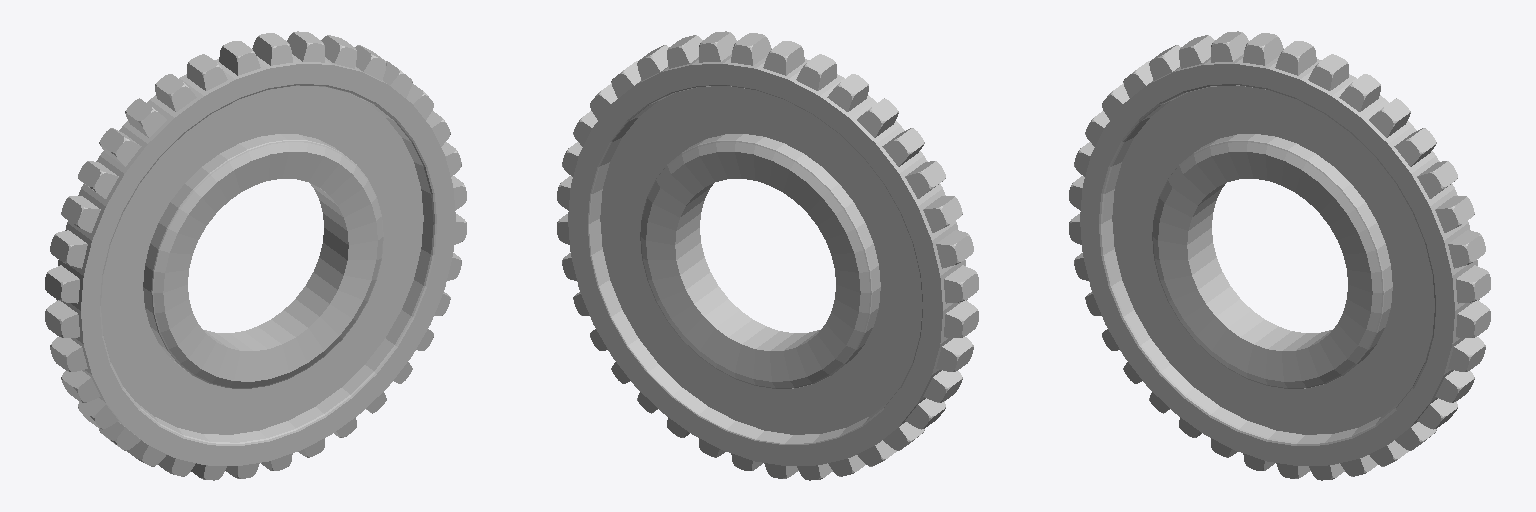
Rendered from gear10.obj.
3 views of the same model, side by side, from view 1: azimuth 30°, elevation 25°; view 2: azimuth 150°, elevation 25°; view 3: azimuth 330°, elevation 25° (orthographic).
Parts seen in each view (by area): view 1: Cylinder.025_Cylinder.027; view 2: Cylinder.025_Cylinder.027; view 3: Cylinder.025_Cylinder.027.
Boxes of the visible parts, x1=… form: Cylinder.025_Cylinder.027: x1=45, y1=31, x2=466, y2=480; Cylinder.025_Cylinder.027: x1=557, y1=31, x2=978, y2=480; Cylinder.025_Cylinder.027: x1=1069, y1=31, x2=1490, y2=480.
Size of the model in its own units: 2.27 by 2.27 by 0.2839.